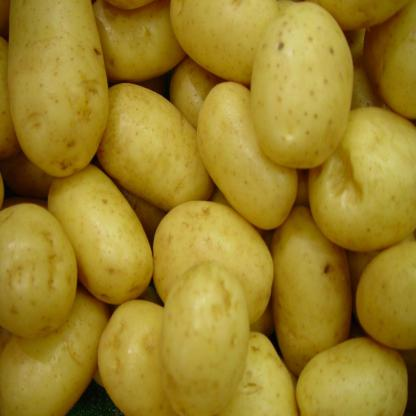potato: (5, 0, 110, 173), (253, 3, 351, 172), (98, 80, 214, 216), (309, 108, 416, 252), (45, 169, 154, 302), (160, 258, 251, 416), (272, 202, 351, 372), (0, 290, 104, 416), (167, 0, 296, 87), (0, 201, 81, 338), (98, 300, 174, 416), (298, 337, 406, 416), (358, 246, 415, 349)
